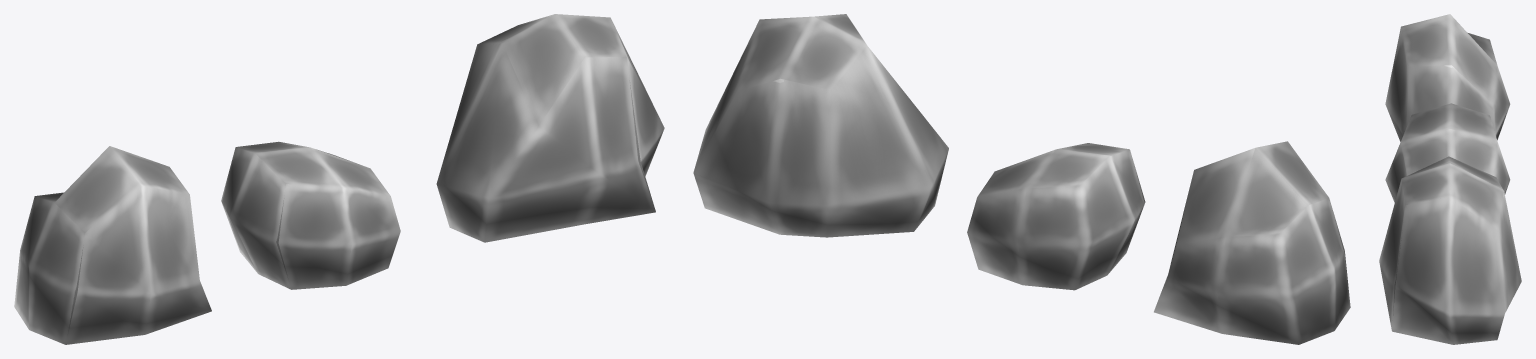
File: rock1abc.fbx
3 views of the same model, side by side, from view 1: azimuth 30°, elevation 25°; view 2: azimuth 150°, elevation 25°; view 3: azimuth 270°, elevation 25° (orthographic). The views are drawn at different scales.
Parts seen in each view (by area): view 1: Cube_002, Cube_001, Cube; view 2: Cube_002, Cube_001, Cube; view 3: Cube_002, Cube_001, Cube.
Boxes of the visible parts, <box> form: Cube_002: <box>436,14,664,242</box>; Cube_001: <box>14,146,211,344</box>; Cube: <box>221,141,400,289</box>; Cube_002: <box>693,14,948,237</box>; Cube_001: <box>1154,141,1350,344</box>; Cube: <box>967,143,1145,290</box>; Cube_002: <box>1379,156,1521,344</box>; Cube_001: <box>1385,14,1510,141</box>; Cube: <box>1385,103,1510,202</box>.
Size of the model in its own units: 15.79 by 4.74 by 3.98.
